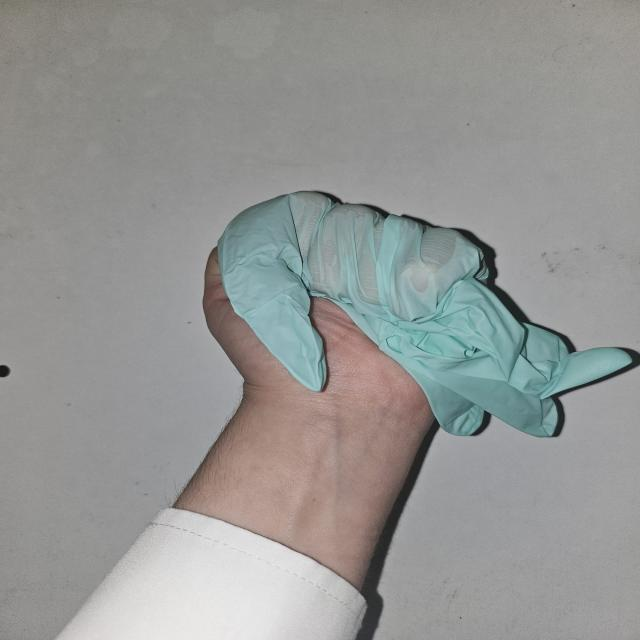glove_partial: (202, 188, 636, 442)
